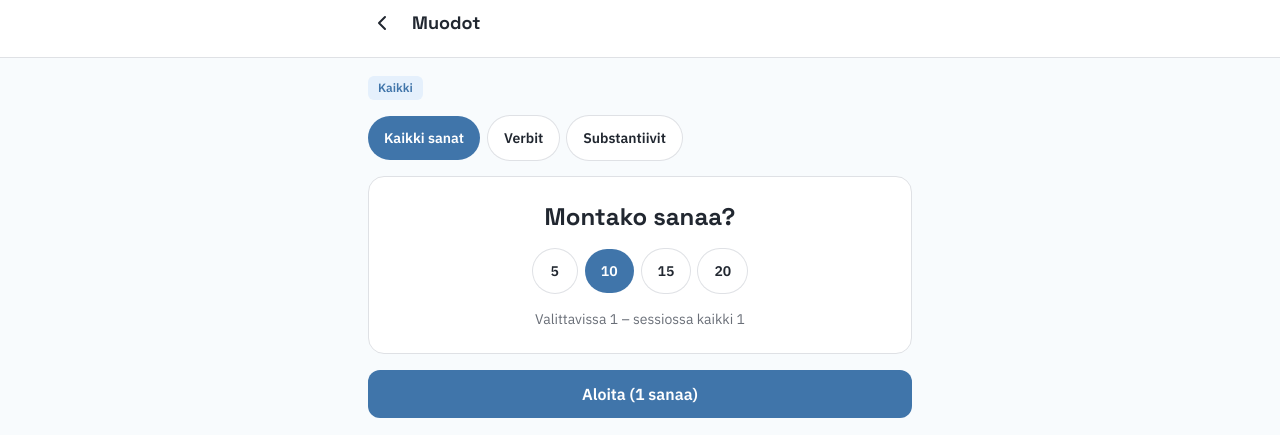
Test case: WordForms practice › shows a noun bare, starting with the gender step
The width and height of the screenshot is (1280, 435).
Click the button "Aloita (1 sanaa)".
click(640, 394)  # box [368,370,912,418]
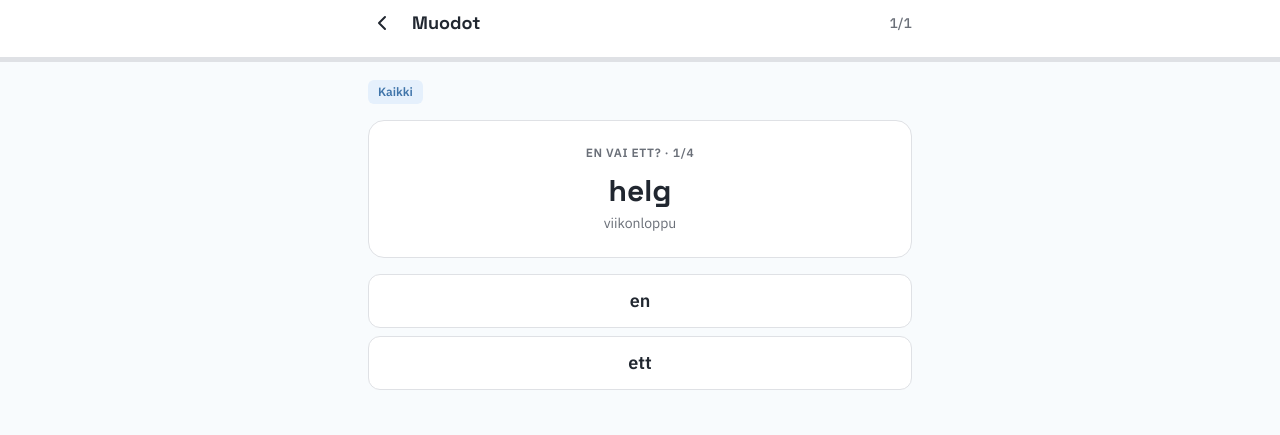
Expected: the text "helg" is shown, [608,171,671,210]
Expected: the text "en vai ett? · 1/4" is shown, [586,145,694,160]
